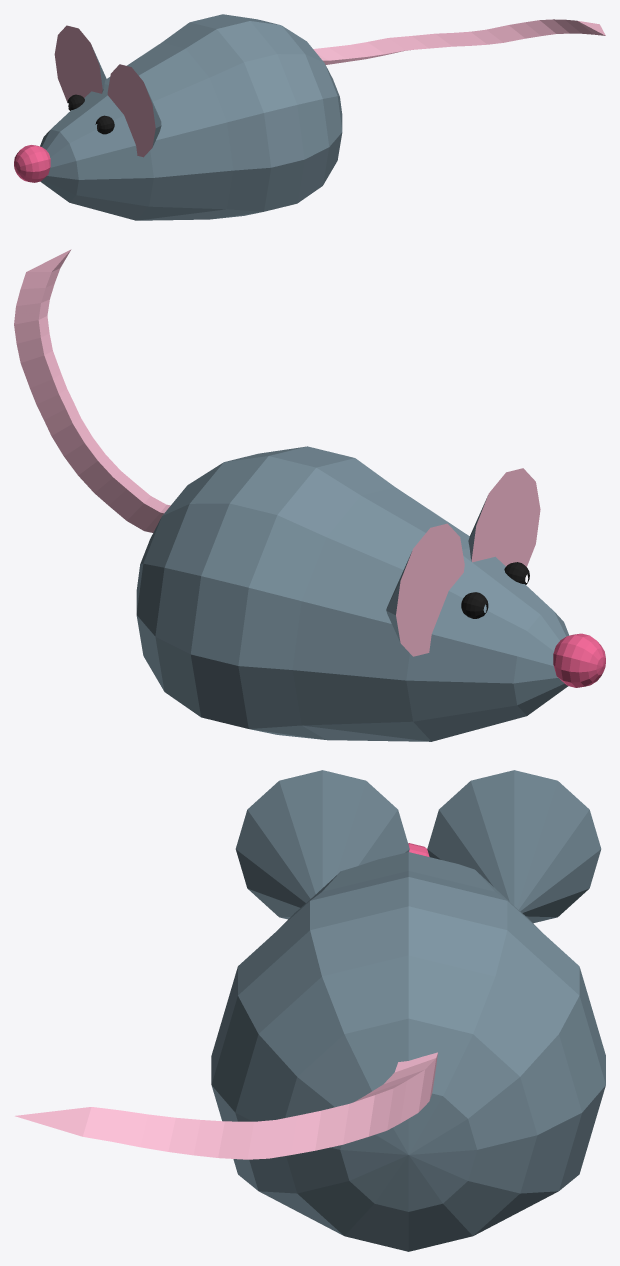
Rendered from mice.glb.
The picture shows the model from 3 angles, top to bottom: view 1: azimuth 30°, elevation 25°; view 2: azimuth 150°, elevation 25°; view 3: azimuth 270°, elevation 25°; orthographic projection. The views are drawn at different scales.
Visible parts, largest first — view 1: group1226118074, group366457425, group1244576720, group1190368398, group1930673237; view 2: group1226118074, group366457425, group1190368398, group1244576720, group1930673237; view 3: group1226118074, group1190368398, group1244576720, group366457425.
Part boxes in pixels (box(x1,y1,x2,y2)): group1226118074: box(40, 14, 342, 220); group366457425: box(313, 19, 605, 64); group1244576720: box(107, 64, 161, 157); group1190368398: box(54, 25, 106, 101); group1930673237: box(14, 145, 50, 182); group1226118074: box(136, 446, 569, 741); group366457425: box(14, 249, 170, 532); group1190368398: box(386, 523, 464, 656); group1244576720: box(468, 468, 540, 566); group1930673237: box(553, 633, 605, 687); group1226118074: box(211, 852, 605, 1251); group1190368398: box(427, 770, 601, 923); group1244576720: box(235, 770, 409, 919); group366457425: box(15, 1052, 437, 1159).
Size of the model in its own units: 0.5917 by 0.1982 by 0.3399.
